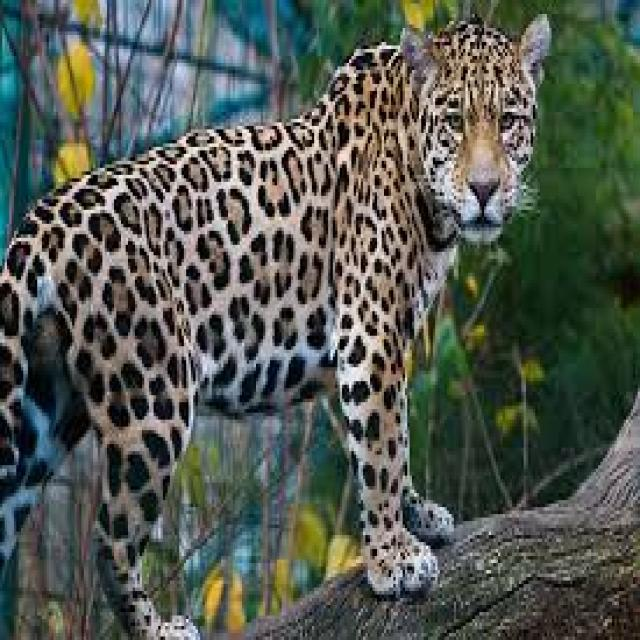Jaguar: (0, 32, 538, 594)
